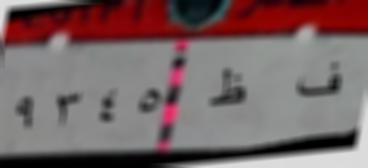3: (52, 89, 84, 131)
4: (96, 83, 122, 128)
5: (132, 85, 164, 116)
9: (13, 90, 41, 137)
Thaa: (205, 68, 253, 110)
faa: (290, 54, 348, 102)
